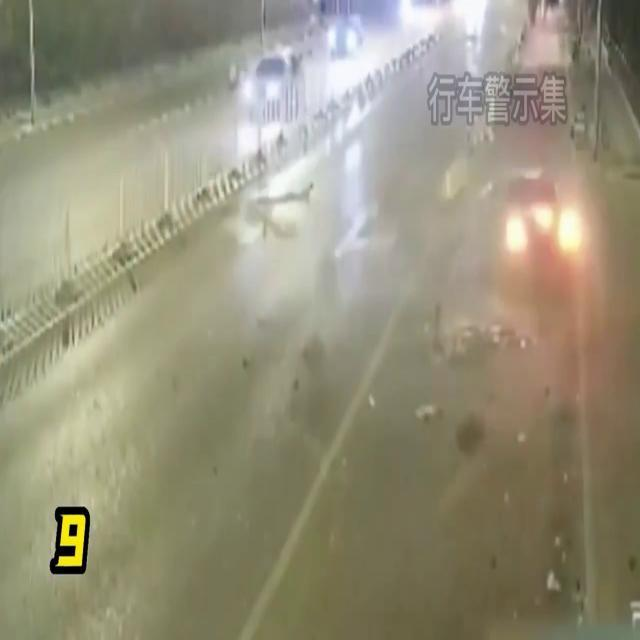single accident: (423, 97, 615, 312)
